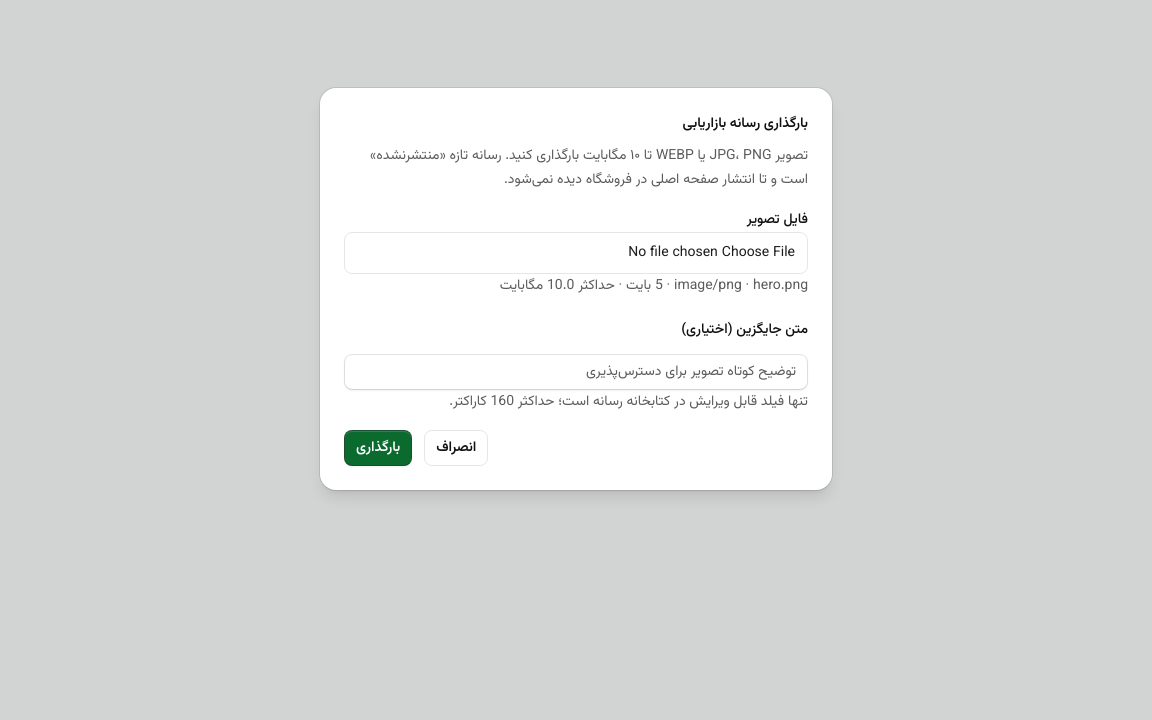
Scenario: MerchMediaUploadDialog (SS-274) › submits the supported file with optional alt and reports progress
Earlier steps of the test are not shown.
Later steps or results of the test are not shown.
Type "  تصویر کمپین  " into the field labelled "متن جایگزین (اختیاری)". click: point(576, 372)
box: left=344, top=354, right=808, bottom=390
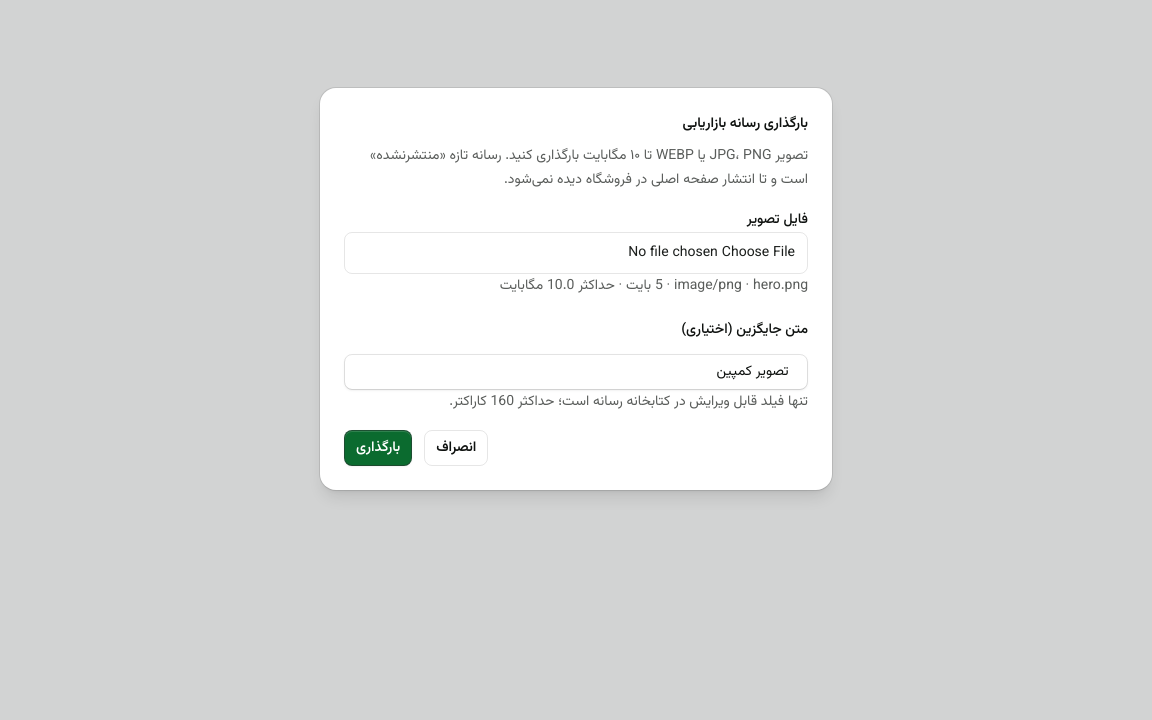
Click the button "بارگذاری". click: point(378, 448)
box: left=344, top=430, right=412, bottom=466
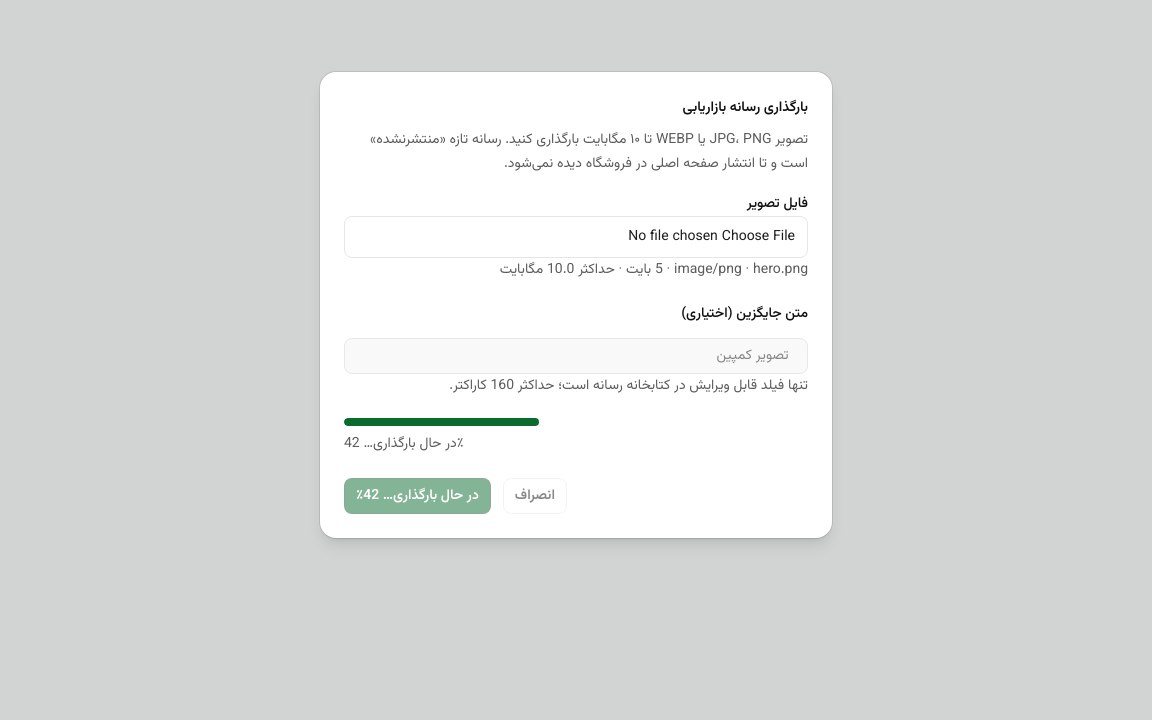
Expected: the text "در حال بارگذاری… 42٪" is shown, left=344, top=432, right=464, bottom=454
Expected: the button "در حال بارگذاری… 42٪" is disabled, left=344, top=478, right=491, bottom=514
